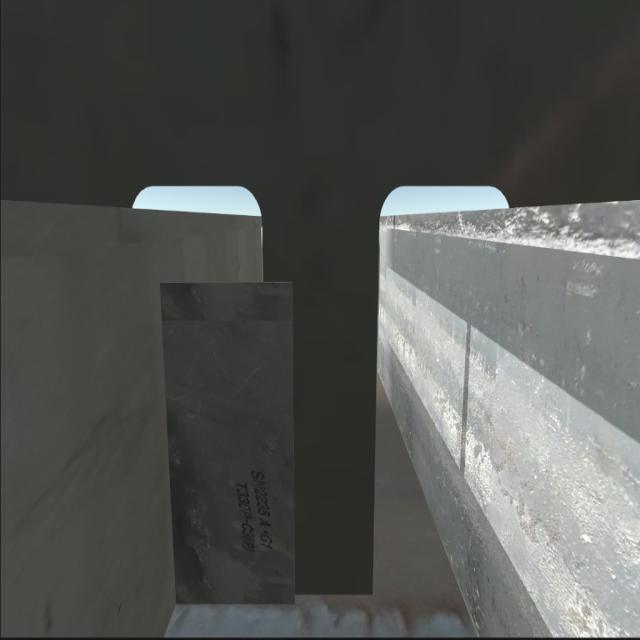fillet_yong_jeop_jang: (178, 584, 378, 613)
longi_yong_jeop_jang: (153, 282, 184, 610)
plate_CP01: (158, 286, 298, 607)
